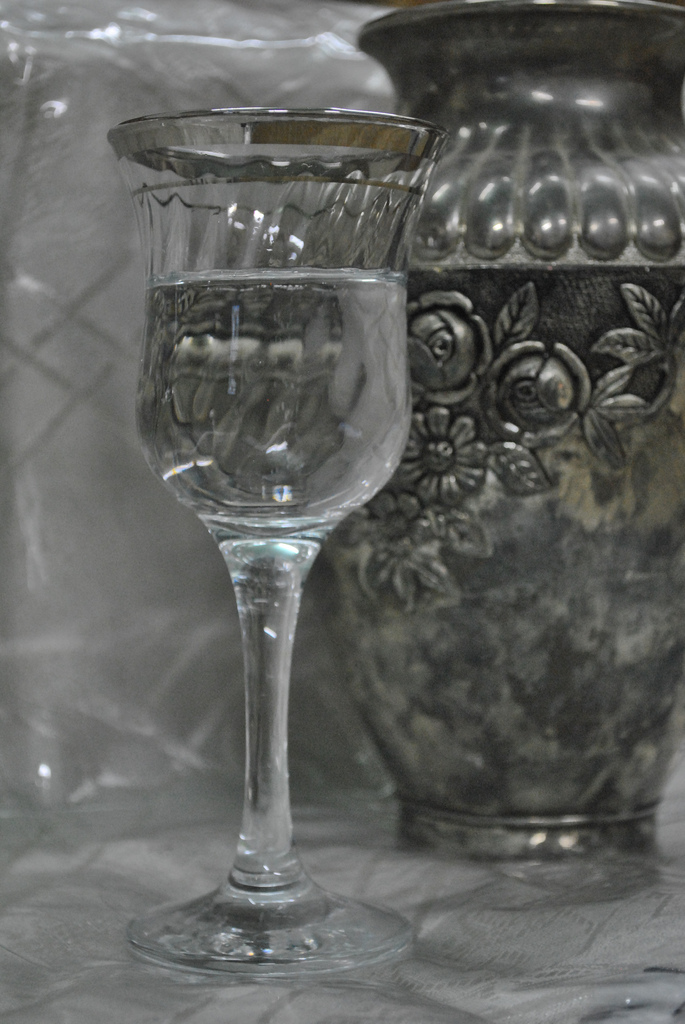glass of water: (98, 101, 451, 995)
